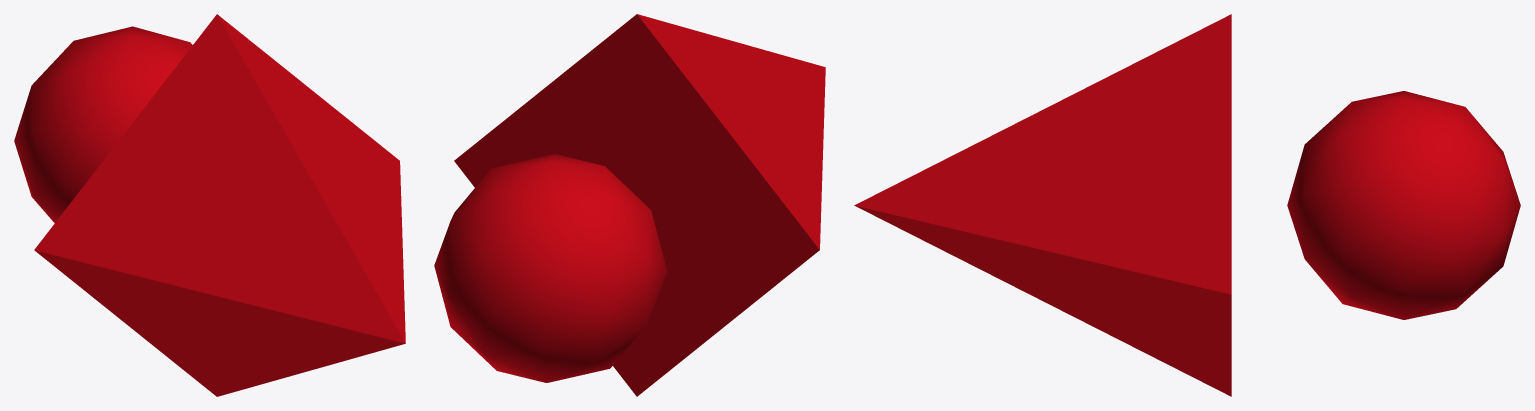
Rendered from Navigator.fbx.
The picture shows the model from 3 angles, left to right: view 1: azimuth 30°, elevation 25°; view 2: azimuth 150°, elevation 25°; view 3: azimuth 270°, elevation 25°; orthographic projection.
Visible parts, largest first — view 1: Navigator; view 2: Navigator; view 3: Navigator.
Part boxes in pixels (x1,y1,x2,y2): Navigator: (14,14,405,396); Navigator: (434,14,825,396); Navigator: (854,14,1520,396).
Bounding box in the file's own units: 5.08 × 5.08 × 8.01.
